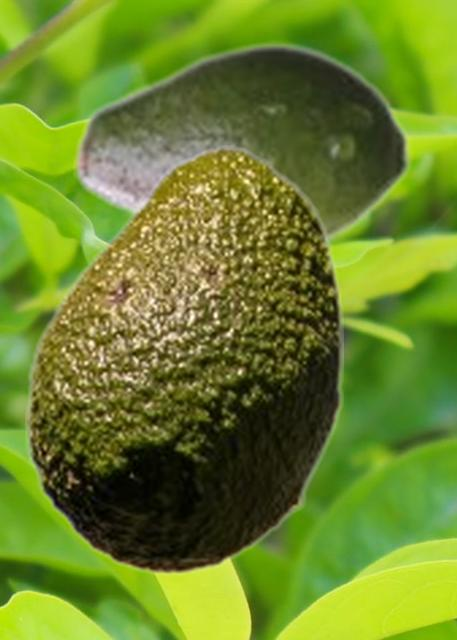avocado: (25, 145, 342, 576), (73, 40, 413, 248)
